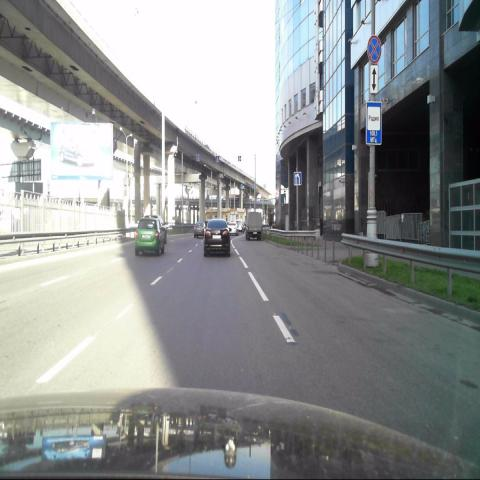7_15: (366, 101, 382, 146)
